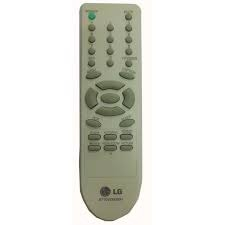remote control: (81, 7, 142, 223)
